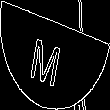M_N: (36, 24, 74, 86)
